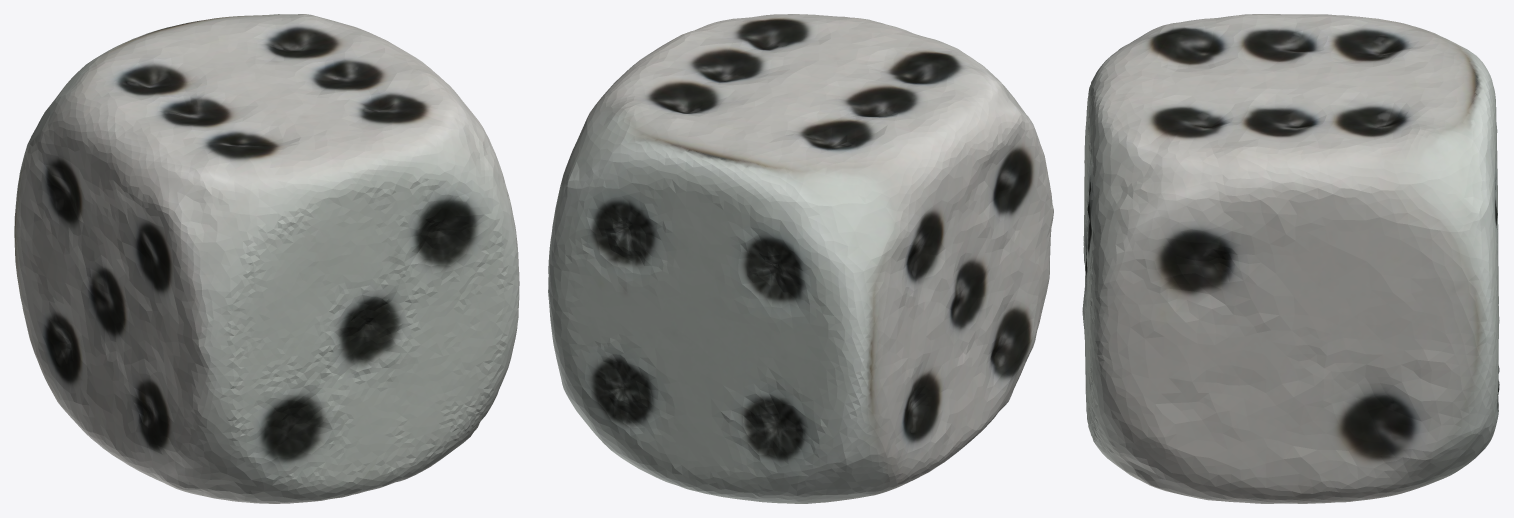
File: dice.glb
The picture shows the model from 3 angles, left to right: view 1: azimuth 30°, elevation 25°; view 2: azimuth 150°, elevation 25°; view 3: azimuth 270°, elevation 25°; orthographic projection. The views are drawn at different scales.
Parts seen in each view (by area): view 1: textured.obj; view 2: textured.obj; view 3: textured.obj.
Boxes of the visible parts, x1=… form: textured.obj: x1=14, y1=14, x2=519, y2=503; textured.obj: x1=548, y1=14, x2=1053, y2=503; textured.obj: x1=1082, y1=14, x2=1499, y2=503.
Size of the model in its own units: 0.0168 by 0.0166 by 0.0176.
1 material, 1 textured.
